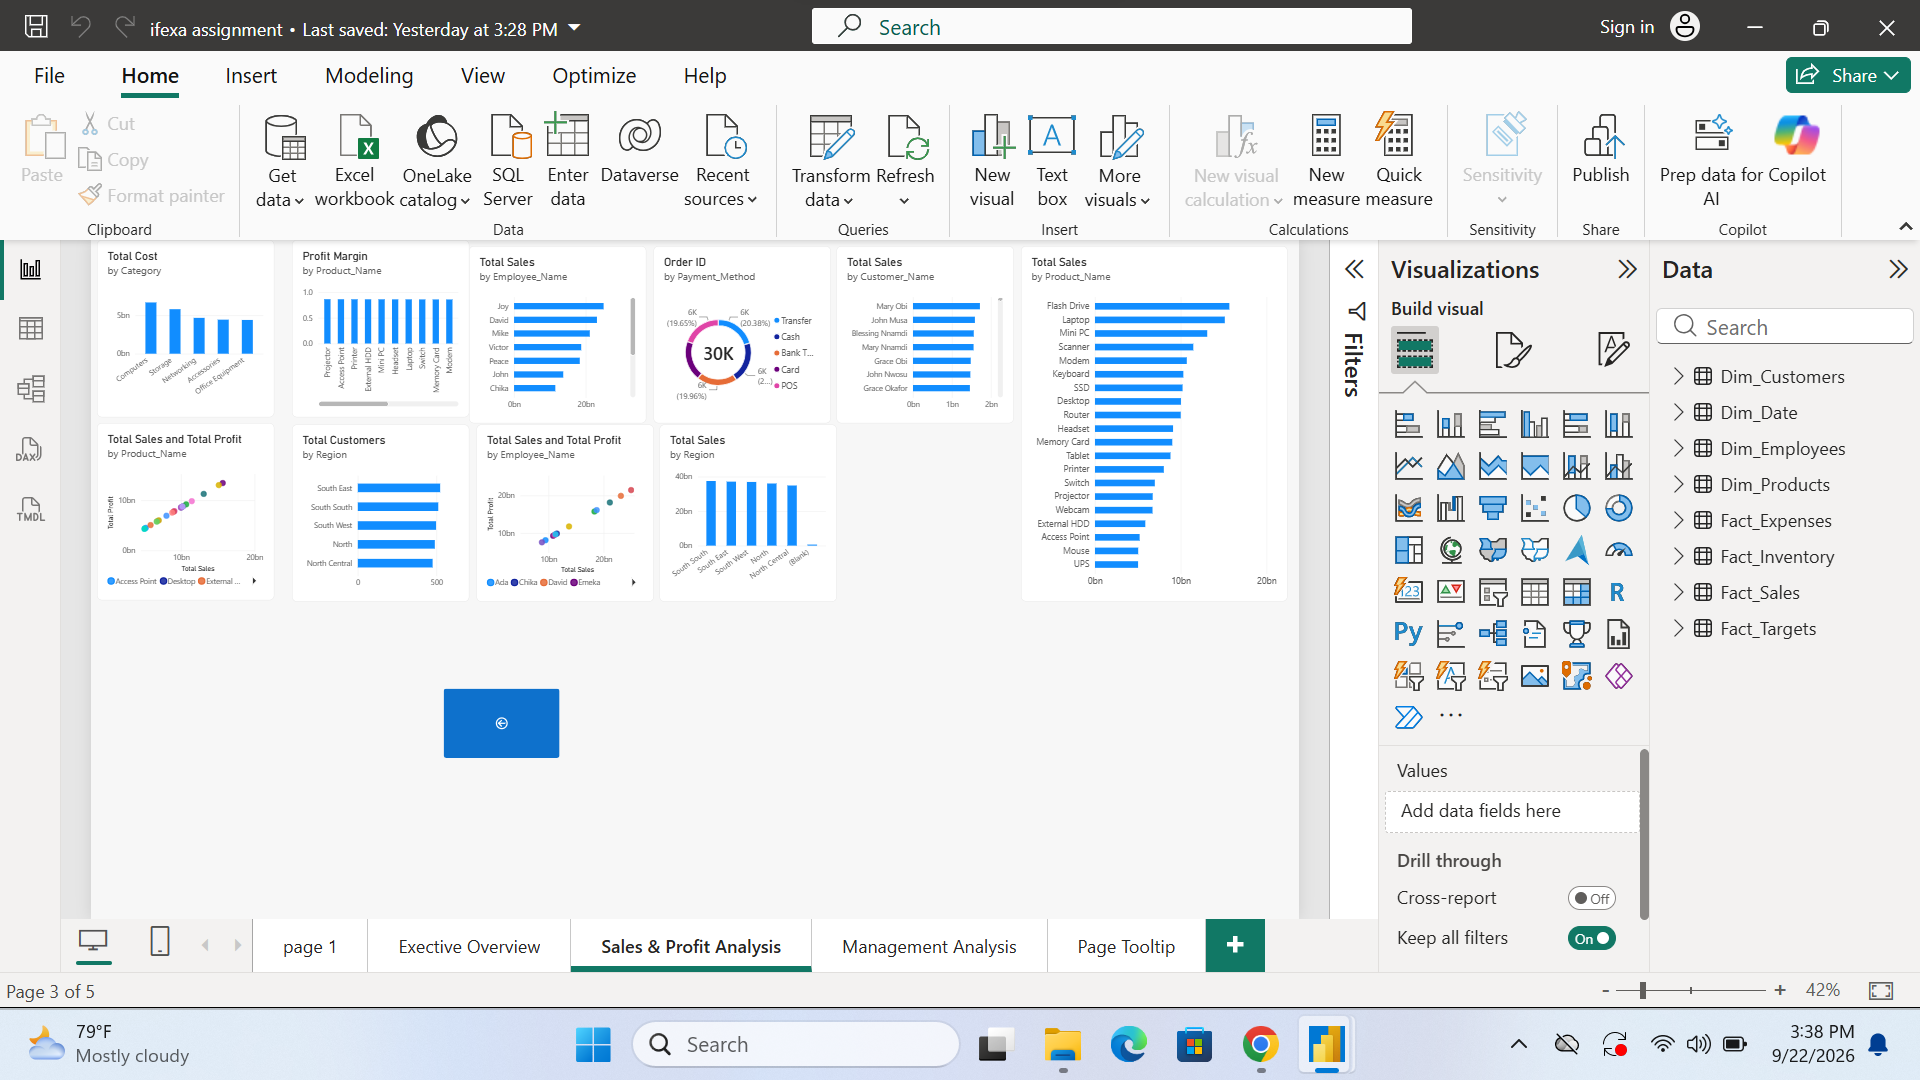

The dashboard page shown, as its layout file describes it:
{"tool":"powerbi","page":{"name":"Sales & Profit Analysis","canvas":[1920,1080],"ordinal":2},"visuals":[{"type":"clusteredColumnChart","fields":{"Category":["Dim_Products.Category"],"Y":["Dim_Customers.Total Cost"]},"box":[10.1,0,282.2,282.2],"z":0},{"type":"clusteredColumnChart","fields":{"Category":["Dim_Products.Product_Name"],"Y":["Dim_Customers.Profit Margin"]},"box":[320,0,282,282],"z":1000},{"type":"scatterChart","fields":{"Series":["Dim_Products.Product_Name"],"X":["Dim_Customers.Total Sales"],"Y":["Dim_Customers.Total Profit"]},"box":[10,292,282,282],"z":2000},{"type":"clusteredBarChart","fields":{"Category":["Dim_Customers.Region"],"Y":["Dim_Customers.Total Customers"]},"box":[320,292.3,282,282],"z":3000},{"type":"clusteredBarChart","fields":{"Category":["Dim_Employees.Employee_Name"],"Y":["Dim_Customers.Total Sales"]},"box":[602.2,10.1,282,282],"z":4000},{"type":"donutChart","fields":{"Category":["Fact_Sales.Payment_Method"],"Y":["Dim_Customers.Order ID"]},"box":[894,10,282,282],"z":5000},{"type":"clusteredBarChart","fields":{"Category":["Dim_Customers.Customer_Name"],"Y":["Dim_Customers.Total Sales"]},"box":[1186,10,282,282],"z":6000},{"type":"scatterChart","fields":{"Series":["Dim_Employees.Employee_Name"],"X":["Dim_Customers.Total Sales"],"Y":["Dim_Customers.Total Profit"]},"box":[612.3,292.3,282,282],"z":7000},{"type":"clusteredColumnChart","fields":{"Category":["Dim_Customers.Region"],"Y":["Dim_Customers.Total Sales"]},"box":[903.2,292.7,282,282],"z":8000},{"type":"clusteredBarChart","fields":{"Category":["Dim_Products.Product_Name"],"Y":["Dim_Customers.Total Sales"]},"box":[1478.5,10.1,423.9,565.2],"z":9000},{"type":"actionButton","box":[559.6,713.6,184.8,110.4],"z":10000}]}

Visuals, with their boxes on the page's 1920x1080 design canvas (x1, y1, x2, y2). These are canvas units, not pixel positions in the 1920x1080 screenshot, which may show the page scaled, cropped or inside an application window:
clusteredColumnChart - Dim_Products.Category x Dim_Customers.Total Cost: Rect(10, 0, 292, 282)
clusteredColumnChart - Dim_Products.Product_Name x Dim_Customers.Profit Margin: Rect(320, 0, 602, 282)
scatterChart - Dim_Products.Product_Name x Dim_Customers.Total Sales: Rect(10, 292, 292, 574)
clusteredBarChart - Dim_Customers.Region x Dim_Customers.Total Customers: Rect(320, 292, 602, 574)
clusteredBarChart - Dim_Employees.Employee_Name x Dim_Customers.Total Sales: Rect(602, 10, 884, 292)
donutChart - Fact_Sales.Payment_Method x Dim_Customers.Order ID: Rect(894, 10, 1176, 292)
clusteredBarChart - Dim_Customers.Customer_Name x Dim_Customers.Total Sales: Rect(1186, 10, 1468, 292)
scatterChart - Dim_Employees.Employee_Name x Dim_Customers.Total Sales: Rect(612, 292, 894, 574)
clusteredColumnChart - Dim_Customers.Region x Dim_Customers.Total Sales: Rect(903, 293, 1185, 575)
clusteredBarChart - Dim_Products.Product_Name x Dim_Customers.Total Sales: Rect(1478, 10, 1902, 575)
actionButton: Rect(560, 714, 744, 824)
